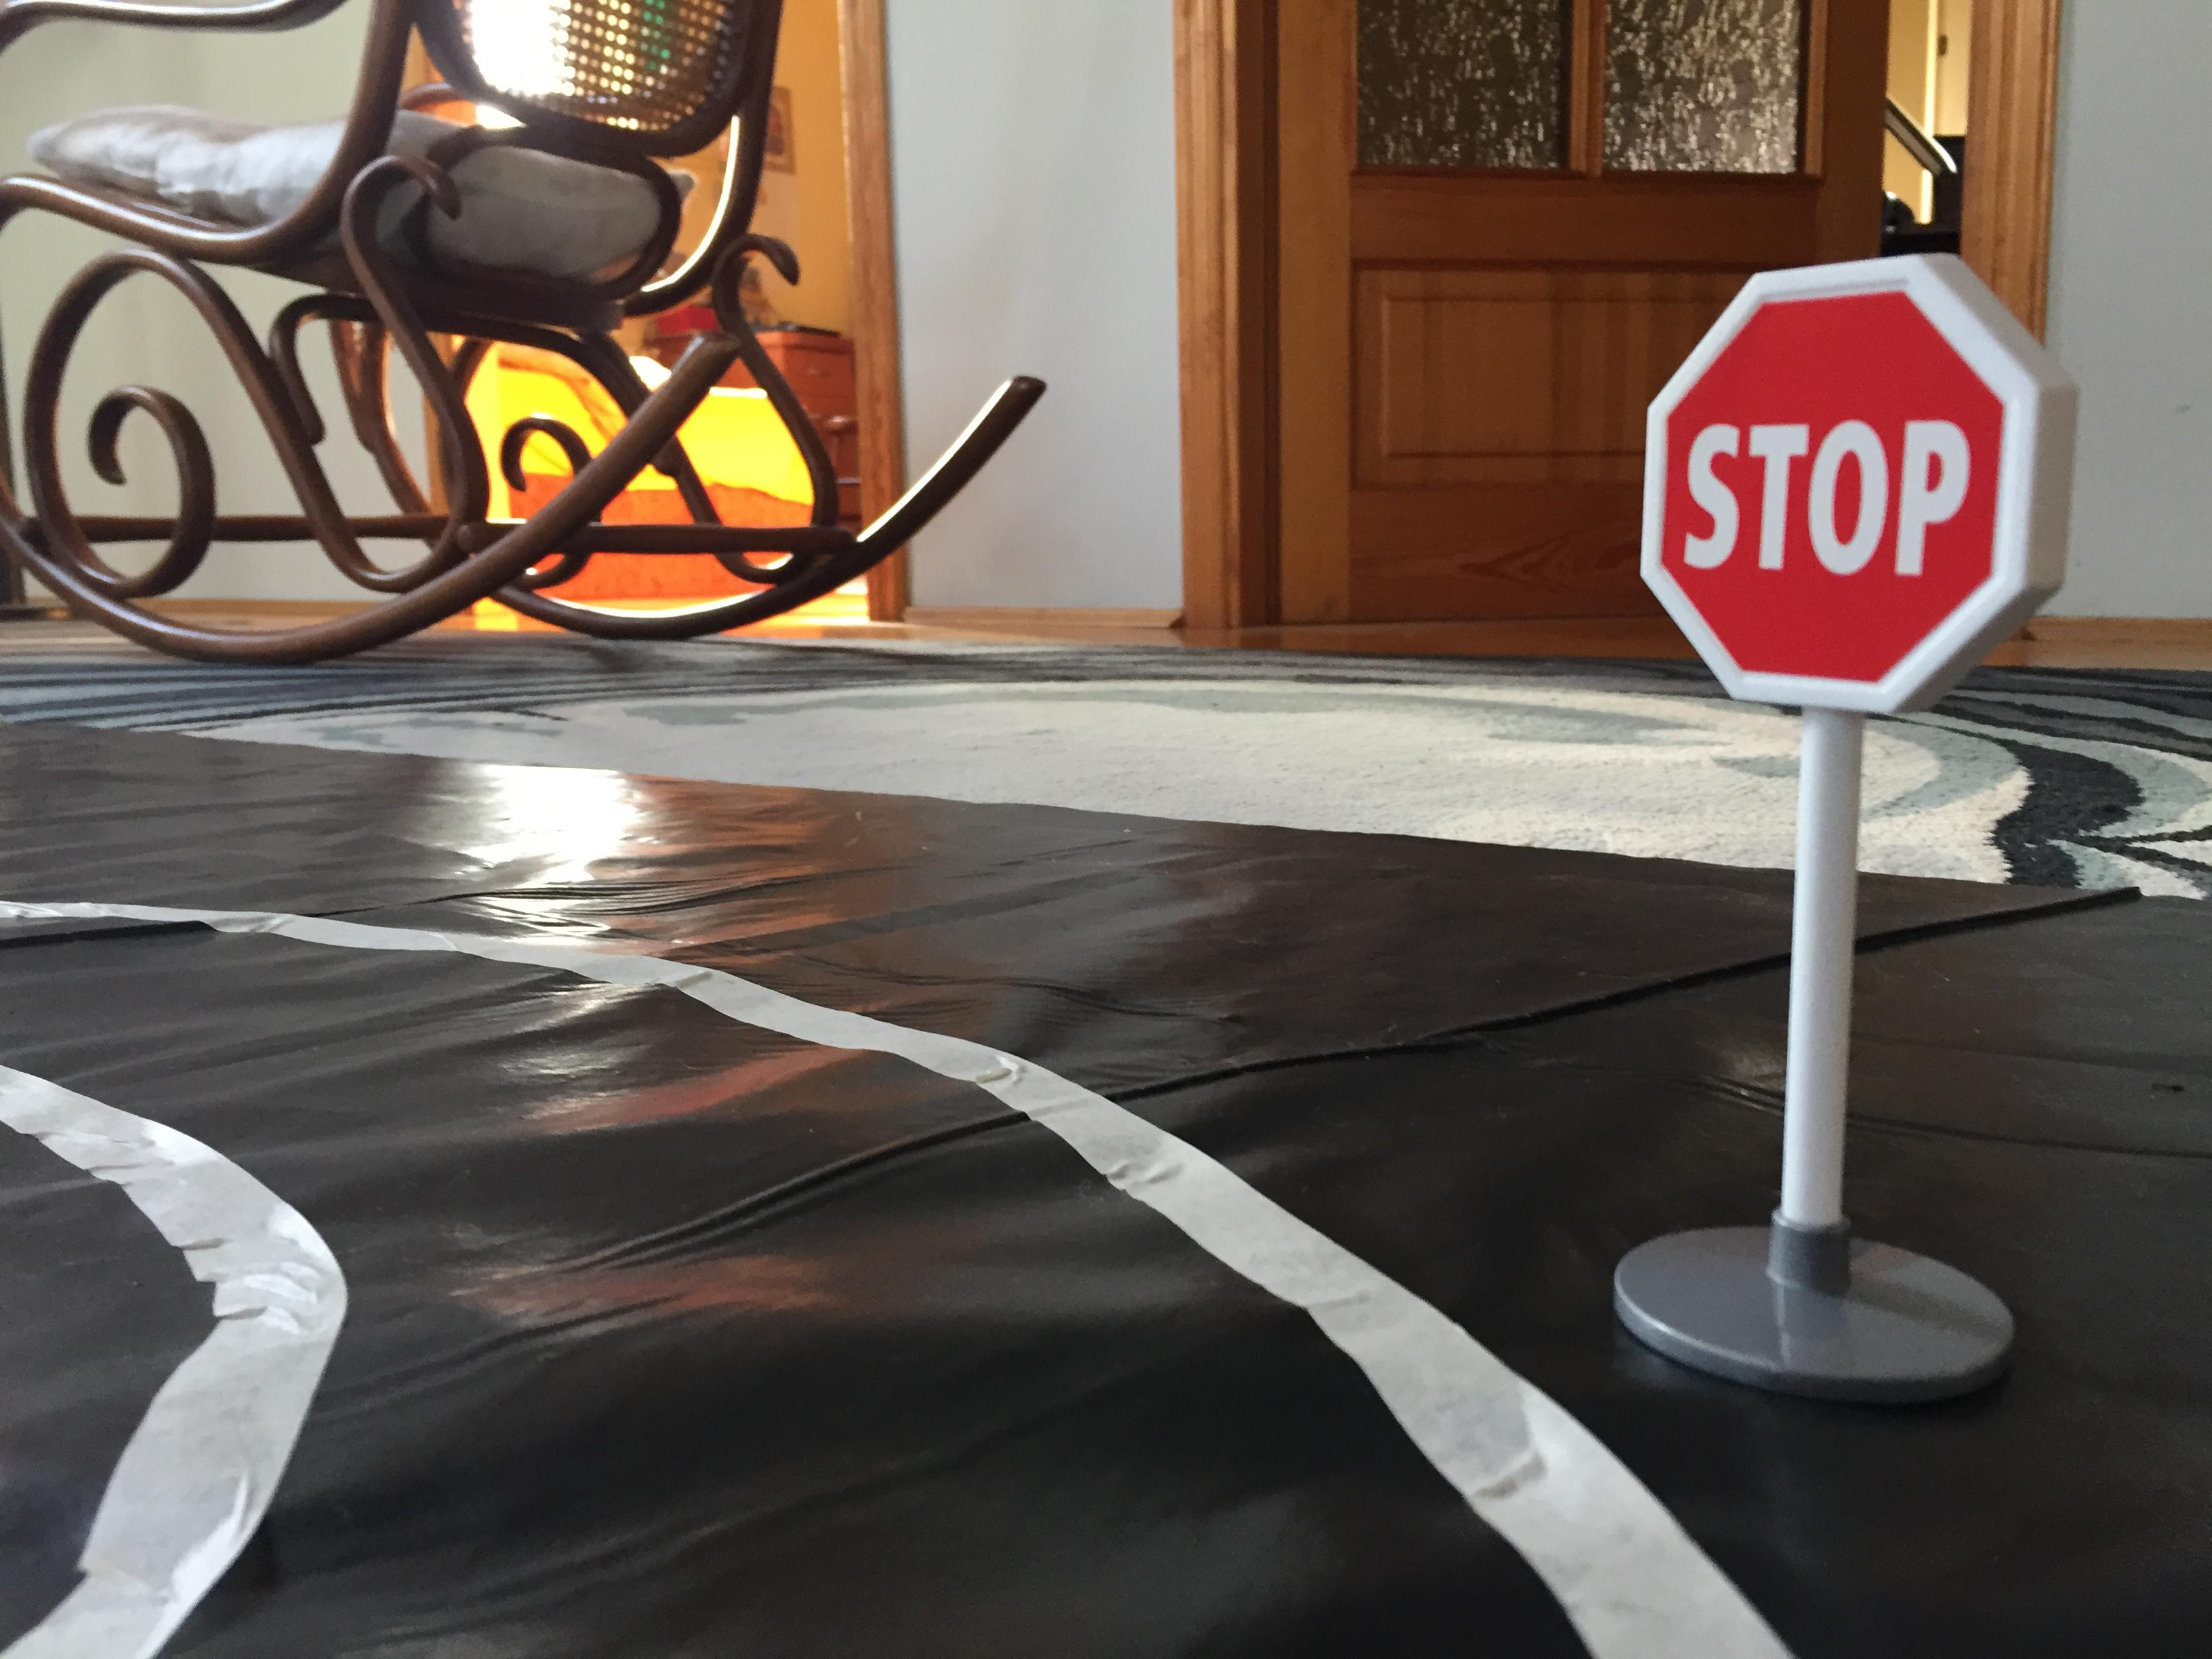stop: (1629, 230, 2095, 725)
